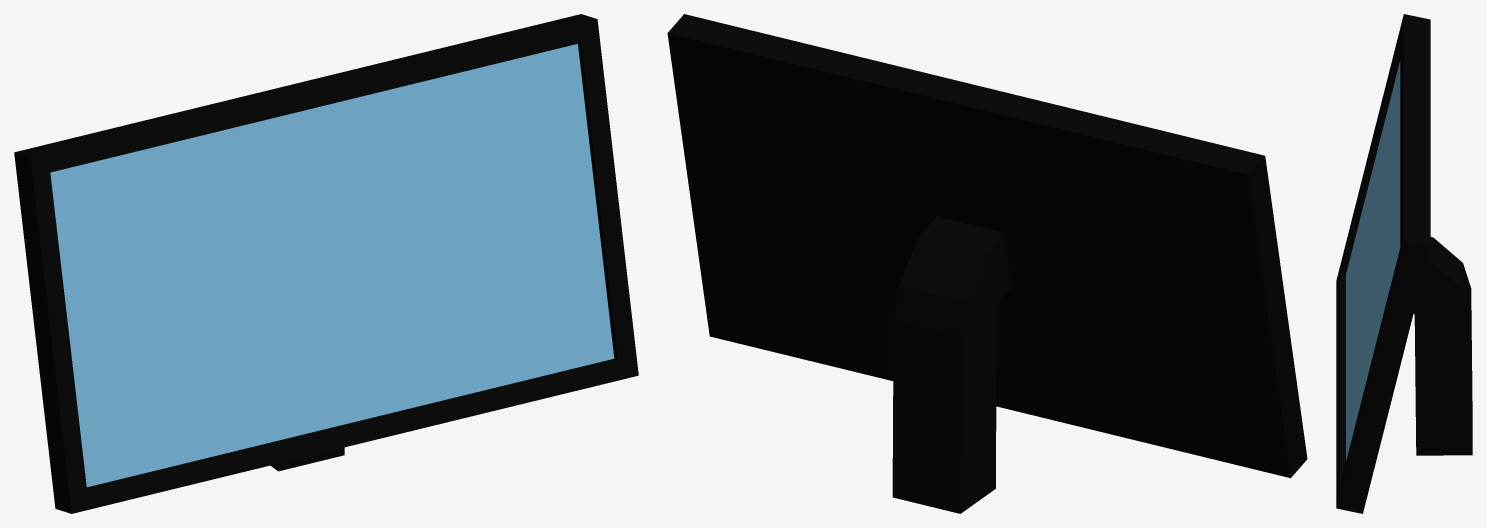
Rendered from screen.fbx.
3 views of the same model, side by side, from view 1: azimuth 30°, elevation 25°; view 2: azimuth 150°, elevation 25°; view 3: azimuth 270°, elevation 25° (orthographic). The views are drawn at different scales.
Parts seen in each view (by area): view 1: Cube; view 2: Cube; view 3: Cube.
Boxes of the visible parts, x1,y1,x2,y2 form: Cube: [14, 14, 638, 513]; Cube: [667, 14, 1307, 513]; Cube: [1336, 14, 1472, 513].
Bounding box in the file's own units: 162 × 104 × 41.29.
